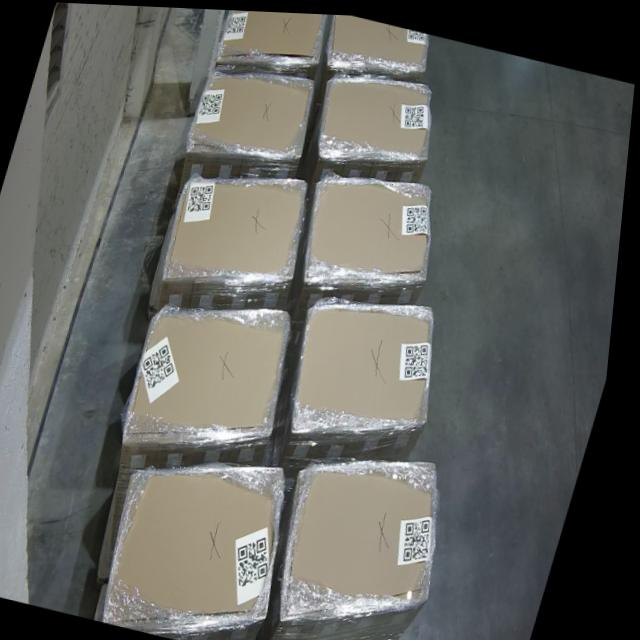pallet: (115, 464, 295, 621), (291, 462, 444, 627), (130, 307, 296, 438), (302, 302, 439, 427), (165, 175, 311, 289), (311, 179, 435, 275), (190, 72, 315, 154), (322, 74, 435, 154), (216, 8, 323, 63), (327, 12, 429, 66)
